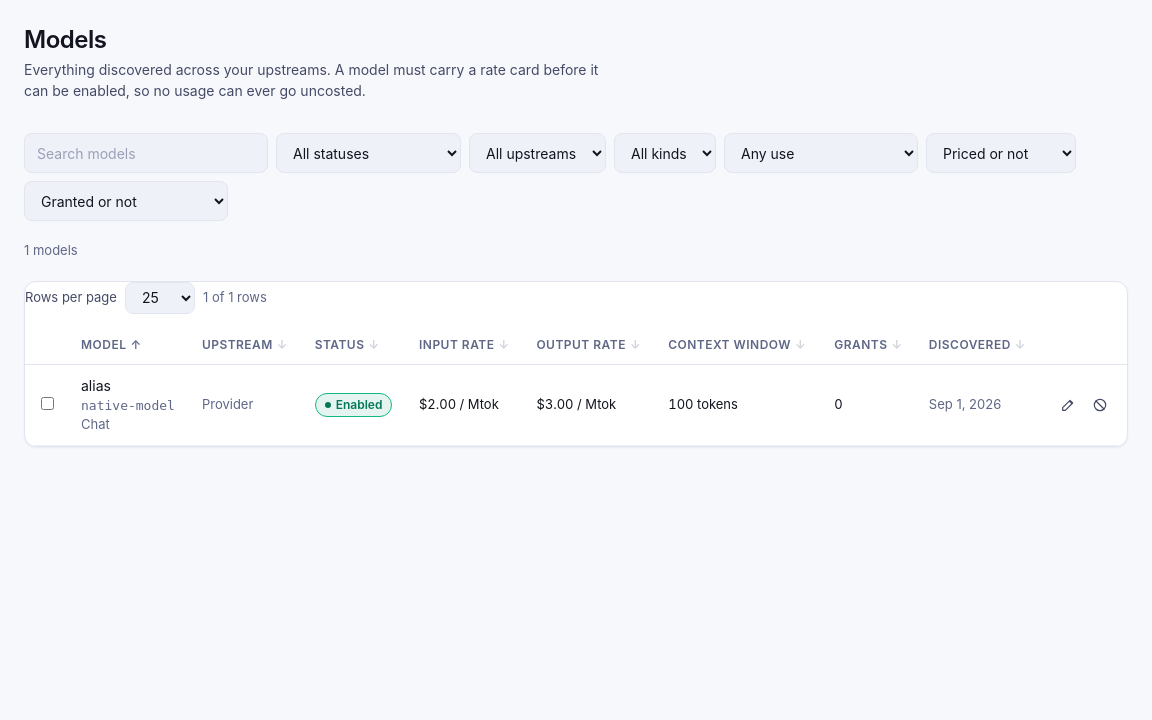
replaces table actions with Edit and keeps Disable; shows readonly ID, all fields, sources, unknown vs free and warnings
Click the button named "Edit native-model" at (1068, 405), box [1053,390,1083,420]
(page scrolled)
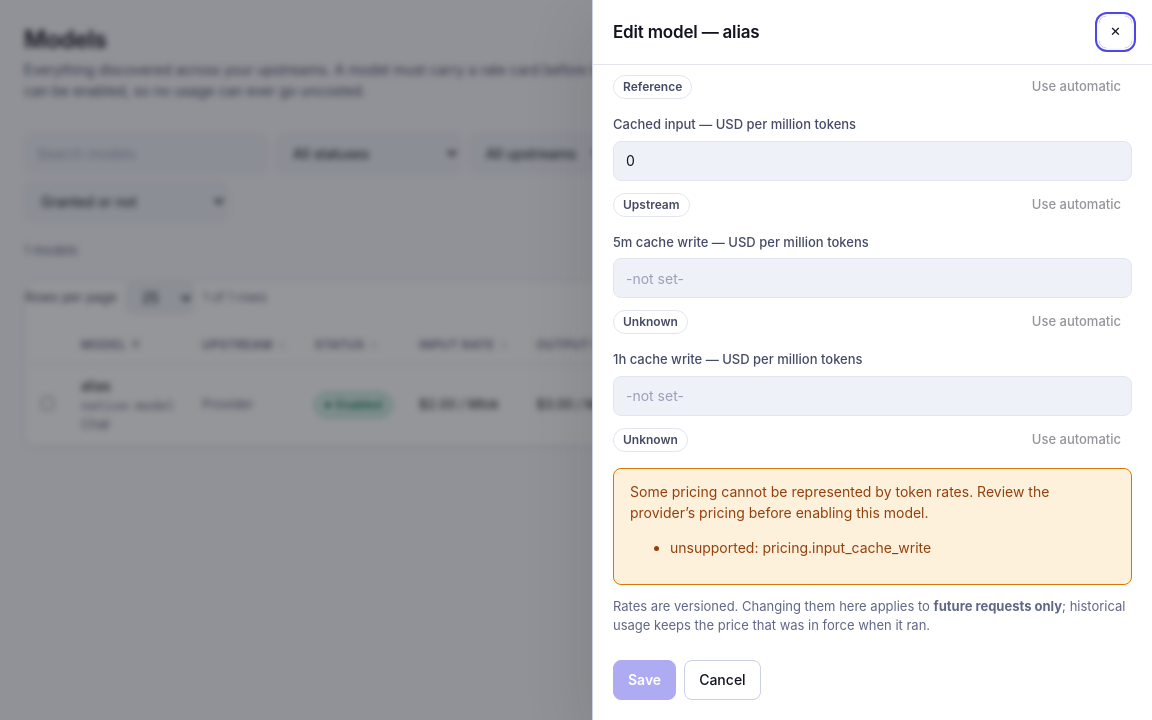
Expected: the number field labelled "Cached input — USD per million tokens" holds "0", [613,140,1132,180]
Expected: the number field labelled "5m cache write — USD per million tokens" is empty, [613,258,1132,298]
Expected: the text "Reference" is shown, [613,75,692,99]
